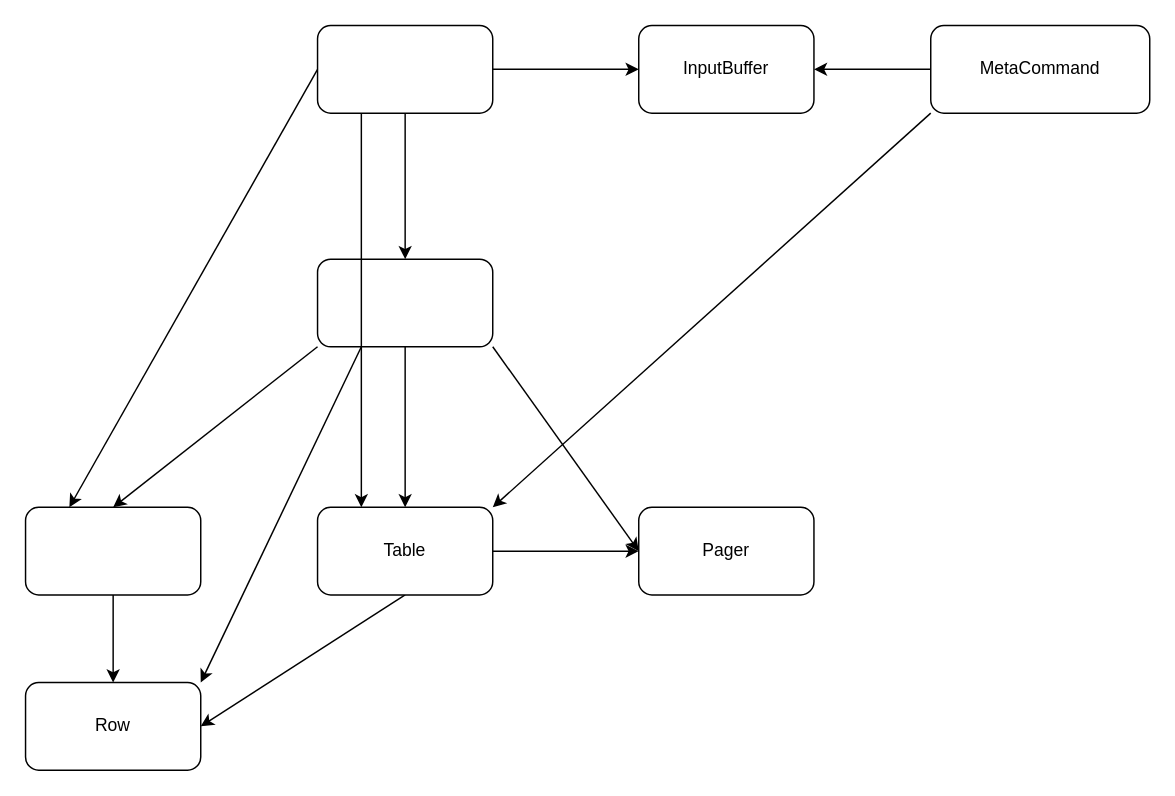
Image size: 1175x796. Some labels were removed from this diagram. Here are the shapes that lost their labels. From the top down, the centre of each, then its label:
(404,68): Statement
(404,302): Cursor
(112,550): BTree
